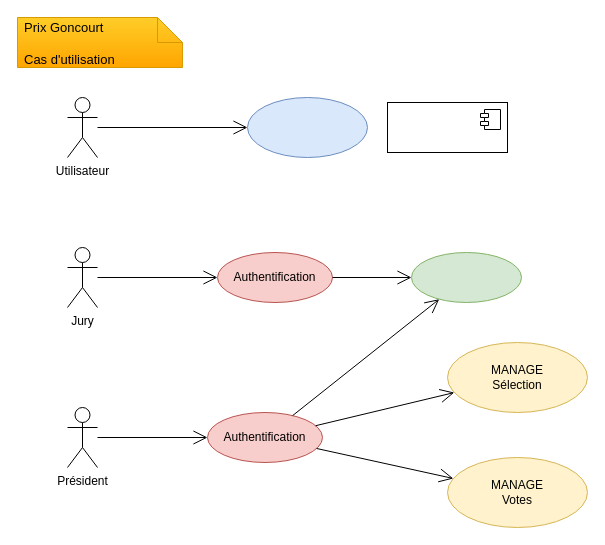
Image size: 605x545. Some labels were removed from this diagram. The shapes that lost their labels are listed below. From the top down, each one's centre as x and y in pixels, then its label:
(x=307, y=127): VIEW Sélection 2024
(x=447, y=127): Sélection Auteur, livre...
(x=466, y=277): Voter
